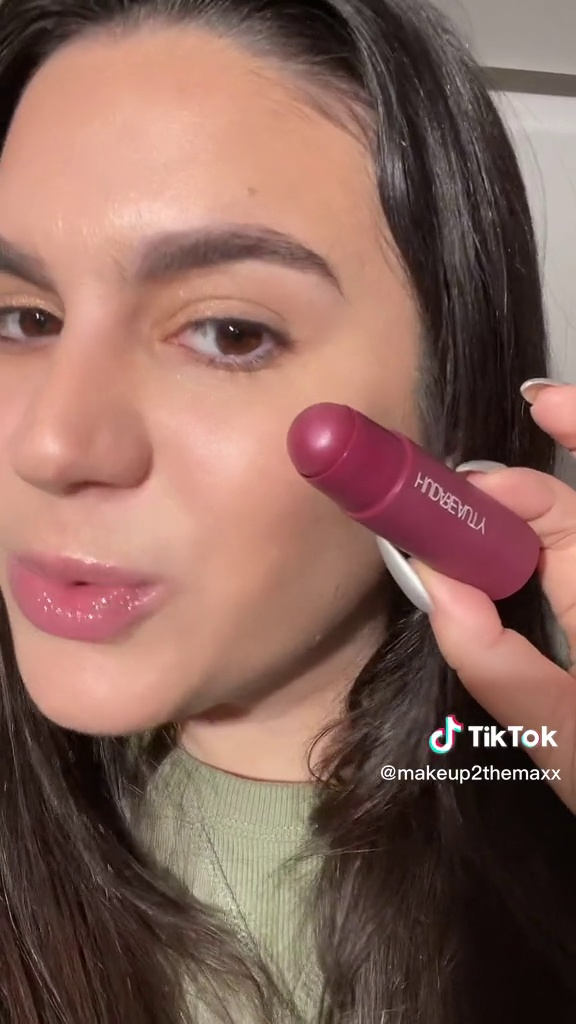train' :'yolo_data/train/images',: (281, 391, 548, 606)
